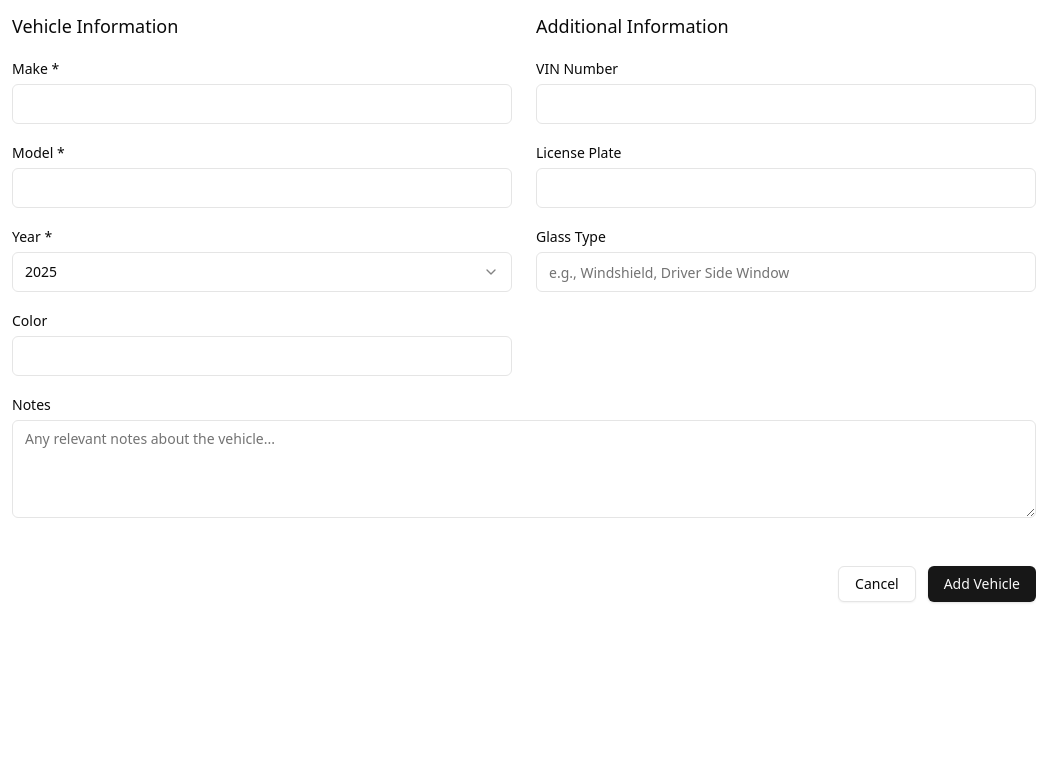
Test: VehicleForm › validates required fields
This screenshot has width=1048, height=780.
Note: Submit the form
Step 1. Click the button "Add Vehicle" → [982, 584], box [928, 566, 1036, 602]
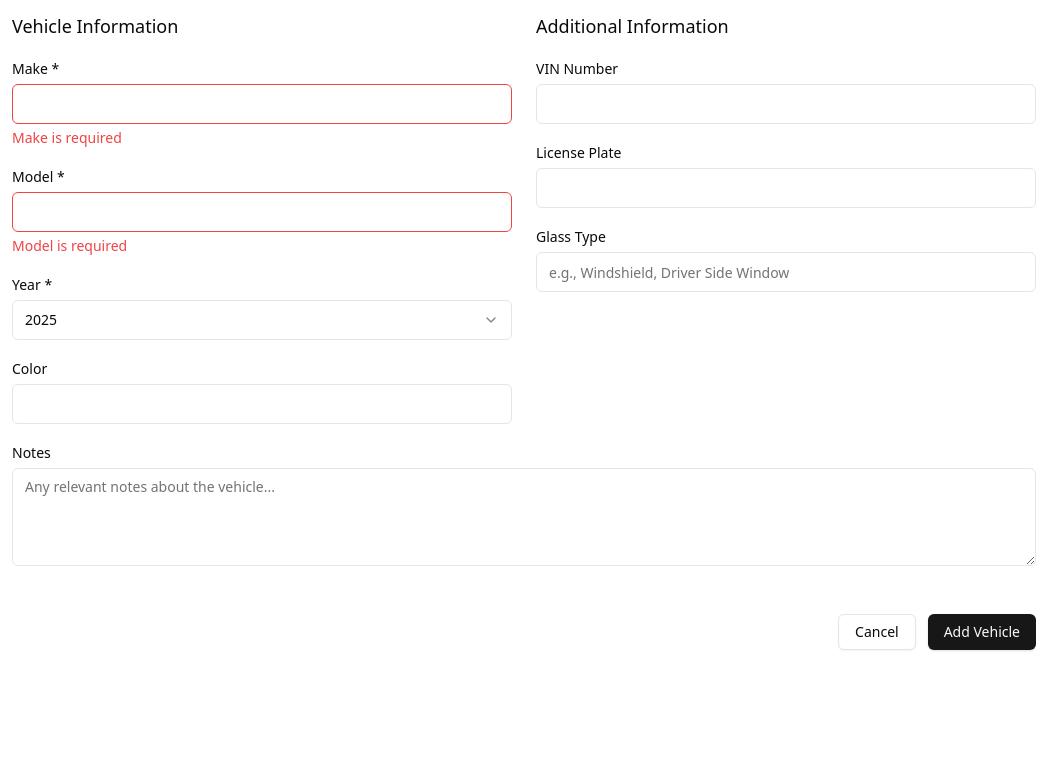
Expected: the text "Make is required" is shown, [12, 128, 122, 147]
Expected: the text "Model is required" is shown, [12, 236, 127, 255]
